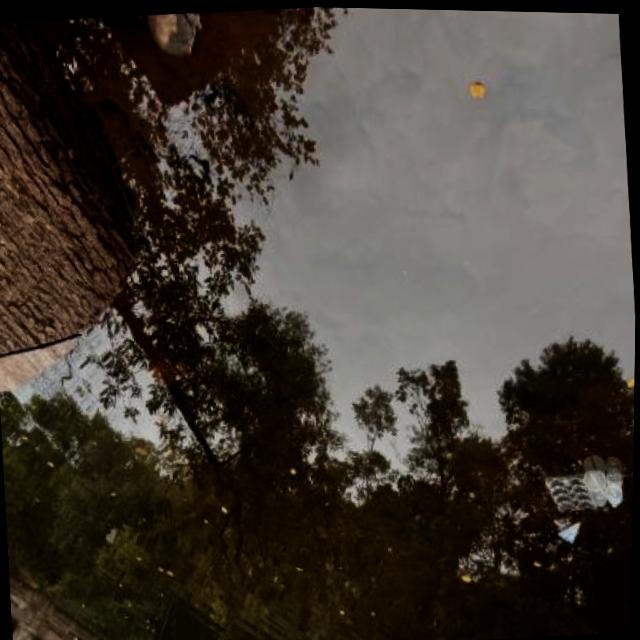Plastic: (544, 468, 603, 513), (582, 452, 627, 508), (554, 511, 585, 544)
